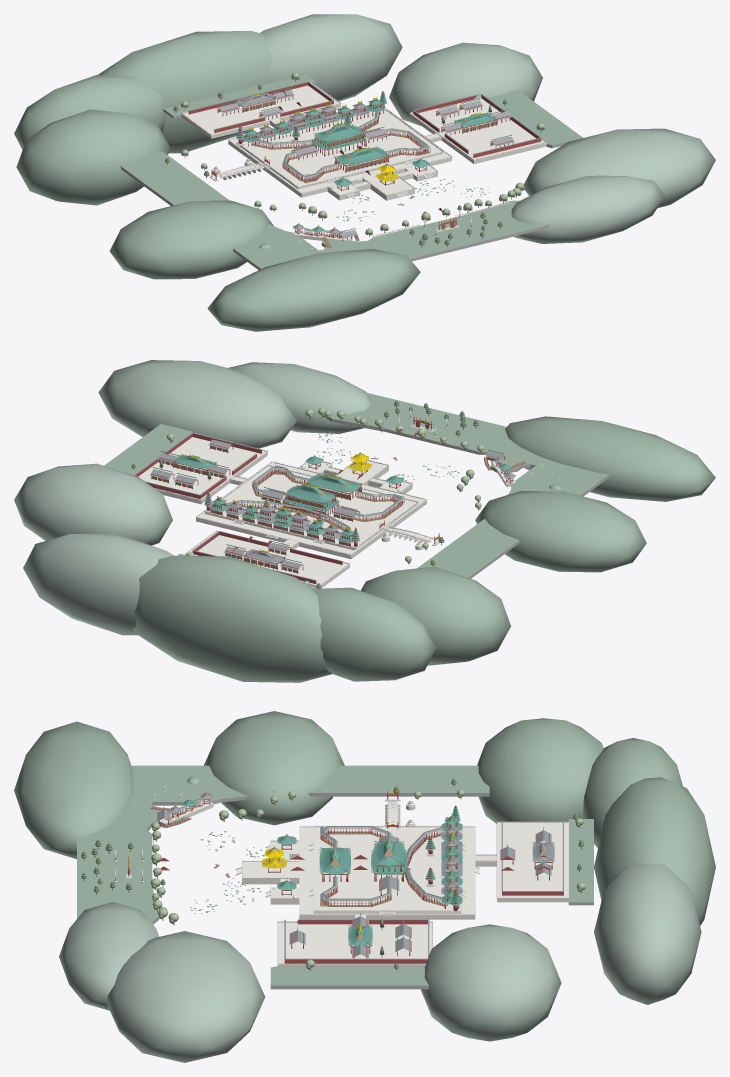
File: fangpu_high.glb
3 views of the same model, one above another, from view 1: azimuth 30°, elevation 25°; view 2: azimuth 150°, elevation 25°; view 3: azimuth 270°, elevation 25° (orthographic). The views are drawn at different scales.
Parts seen in each view (by area): view 1: FS_山丘09_05111, FS_山丘05_05107, FS_山丘, FS_山丘07_05109, FS_山丘06_05108, FS_山丘02_05104, FS_山丘08_05110, FS_山丘04_05106, FS_主台基_上层_00002, FS_地形, FS_山丘03_05105, FS_西岸_04778 (+9 smaller); view 2: FS_山丘, FS_山丘06_05108, FS_山丘09_05111, FS_山丘07_05109, FS_山丘02_05104, FS_山丘04_05106, FS_山丘03_05105, FS_山丘05_05107, FS_地形, FS_山丘08_05110, FS_西岸_04778, FS_主台基_上层_00002 (+7 smaller); view 3: FS_山丘06_05108, FS_山丘04_05106, FS_山丘02_05104, FS_山丘09_05111, FS_山丘07_05109, FS_山丘05_05107, FS_山丘, FS_西岸_04778, FS_主台基_上层_00002, FS_地形, FS_山丘08_05110, FS_蕊珠宫 (+10 smaller).
Boxes of the visible parts, box(x1,y1,x2,y2) form: FS_山丘09_05111: box(207, 249, 420, 331); FS_山丘05_05107: box(16, 109, 170, 205); FS_山丘: box(98, 30, 272, 153); FS_山丘07_05109: box(109, 200, 273, 279); FS_山丘06_05108: box(523, 128, 715, 207); FS_山丘02_05104: box(260, 14, 402, 101); FS_山丘08_05110: box(511, 175, 665, 243); FS_山丘04_05106: box(389, 42, 542, 126); FS_主台基_上层_00002: box(239, 110, 443, 189); FS_地形: box(296, 200, 550, 261); FS_山丘03_05105: box(14, 75, 166, 149); FS_西岸_04778: box(120, 151, 318, 269); FS_山丘: box(133, 555, 332, 682); FS_山丘06_05108: box(98, 360, 296, 448); FS_山丘09_05111: box(505, 416, 715, 501); FS_山丘07_05109: box(475, 491, 646, 572); FS_山丘02_05104: box(23, 534, 173, 635); FS_山丘04_05106: box(14, 463, 172, 545); FS_山丘03_05105: box(312, 587, 436, 681); FS_山丘05_05107: box(361, 566, 510, 665); FS_地形: box(325, 392, 567, 472); FS_山丘08_05110: box(228, 362, 370, 433); FS_西岸_04778: box(417, 465, 608, 578); FS_主台基_上层_00002: box(205, 466, 418, 550); FS_山丘06_05108: box(106, 931, 264, 1062); FS_山丘04_05106: box(420, 924, 561, 1041); FS_山丘02_05104: box(594, 863, 701, 1004); FS_山丘09_05111: box(14, 721, 133, 859); FS_山丘07_05109: box(204, 711, 344, 825); FS_山丘05_05107: box(477, 718, 603, 823); FS_山丘: box(594, 777, 715, 925); FS_西岸_04778: box(130, 765, 489, 805); FS_主台基_上层_00002: box(313, 827, 460, 913); FS_地形: box(77, 788, 184, 924); FS_山丘08_05110: box(59, 902, 159, 1010); FS_蕊珠宫: box(278, 922, 431, 967).
Size of the model in its own units: 424 by 81 by 391.
